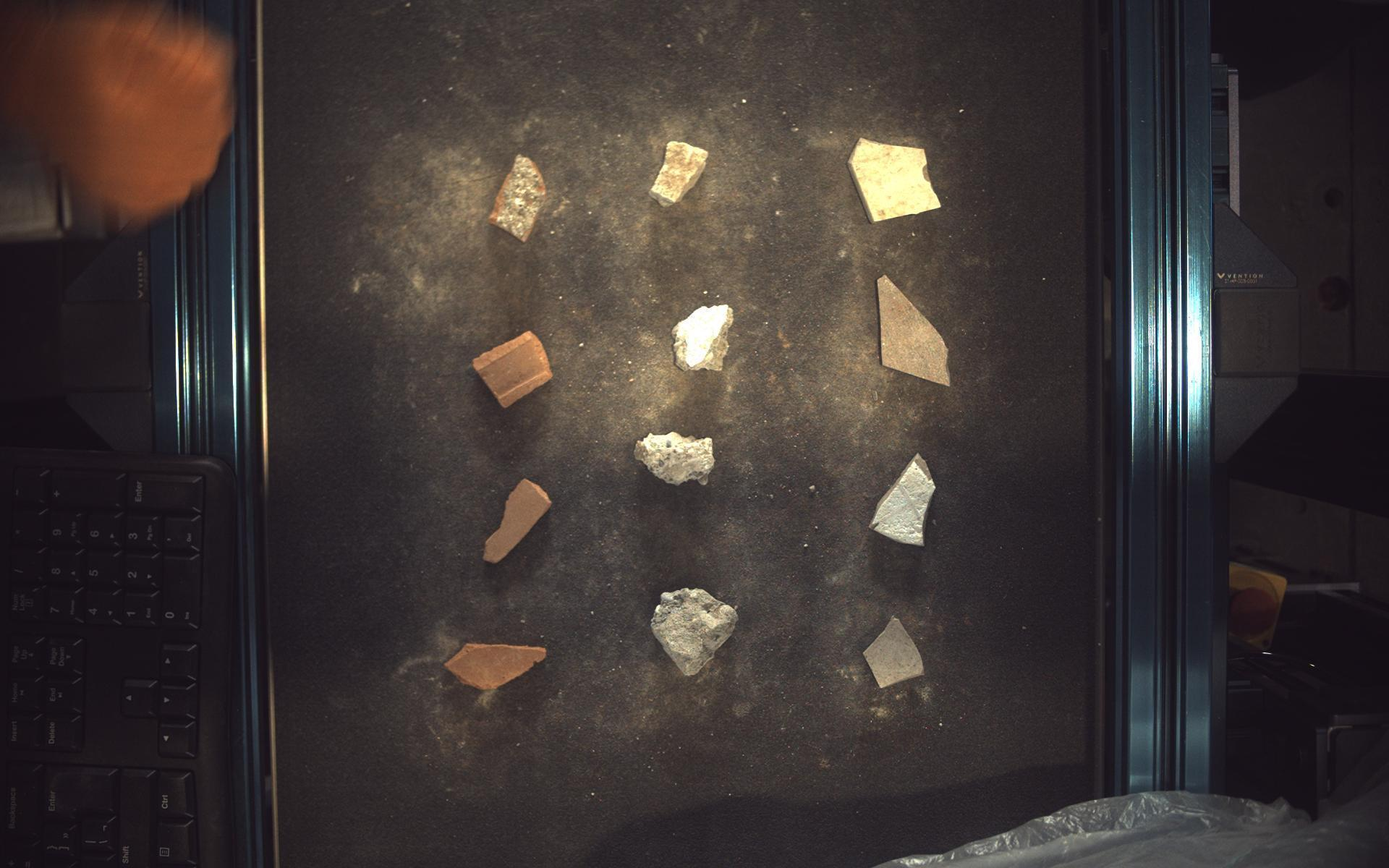brick: (473, 331, 553, 407), (484, 480, 552, 563), (489, 154, 547, 241), (445, 644, 546, 691)
concrete: (653, 589, 739, 677), (637, 433, 715, 485), (673, 305, 734, 370), (650, 140, 709, 206)
tile: (879, 275, 951, 386), (850, 137, 943, 222), (872, 454, 938, 546), (865, 617, 926, 689)
